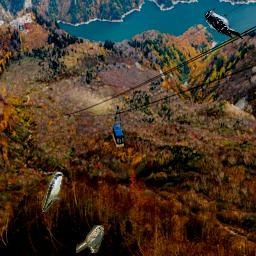Sparrow: (76, 225, 104, 253)
Swallow: (42, 172, 63, 212)
Woodpecker: (204, 8, 244, 39)
